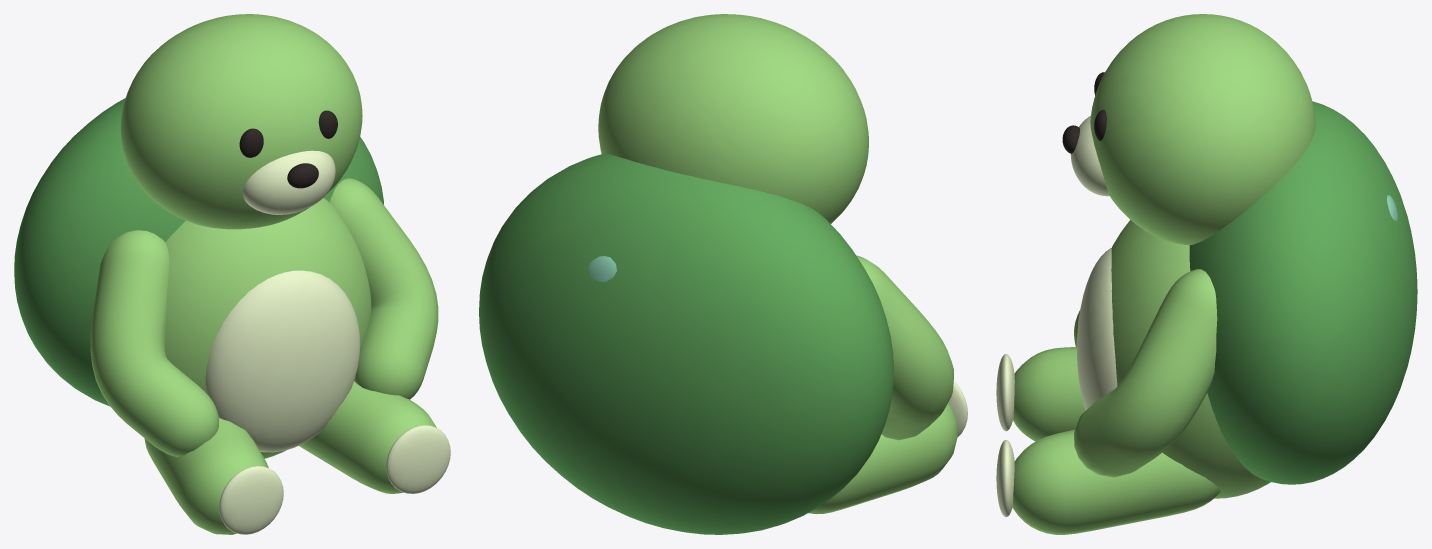
Rendered from deco_tortuga.glb.
3 renders of one model, left to right at view 1: azimuth 30°, elevation 25°; view 2: azimuth 150°, elevation 25°; view 3: azimuth 270°, elevation 25°, orthographic. The views are drawn at different scales.
Visible parts, largest first — view 1: cabeza tortuga.001, caparazón.001, barriga tortuga.001, panza tortuga.001, brazo.024, brazo.025, pierna.025, pierna.024, hocico.012, planta pata.025, planta pata.024, nariz.012 (+1 smaller); view 2: caparazón.001, cabeza tortuga.001, brazo.024, pierna.024, planta pata.024, placa 1.001; view 3: caparazón.001, cabeza tortuga.001, brazo.025, pierna.025, panza tortuga.001, pierna.024, barriga tortuga.001, hocico.012, planta pata.024, planta pata.025.
Boxes of the visible parts, left/top/right/bottom form: cabeza tortuga.001: left=120, top=14, right=362, bottom=229; caparazón.001: left=14, top=98, right=383, bottom=406; barriga tortuga.001: left=205, top=270, right=360, bottom=452; panza tortuga.001: left=164, top=198, right=371, bottom=458; brazo.024: left=90, top=230, right=218, bottom=457; brazo.025: left=330, top=178, right=438, bottom=399; pierna.025: left=299, top=381, right=436, bottom=493; pierna.024: left=144, top=418, right=268, bottom=534; hocico.012: left=243, top=150, right=335, bottom=214; planta pata.025: left=386, top=425, right=450, bottom=493; planta pata.024: left=219, top=466, right=283, bottom=534; nariz.012: left=287, top=163, right=318, bottom=188; caparazón.001: left=479, top=153, right=893, bottom=534; cabeza tortuga.001: left=598, top=14, right=868, bottom=223; brazo.024: left=856, top=255, right=953, bottom=440; pierna.024: left=808, top=403, right=957, bottom=514; planta pata.024: left=948, top=381, right=967, bottom=436; placa 1.001: left=588, top=256, right=616, bottom=282; caparazón.001: left=1189, top=101, right=1417, bottom=484; cabeza tortuga.001: left=1090, top=14, right=1315, bottom=245; brazo.025: left=1074, top=269, right=1217, bottom=477; pierna.025: left=1012, top=429, right=1220, bottom=534; panza tortuga.001: left=1111, top=220, right=1270, bottom=498; pierna.024: left=1013, top=347, right=1085, bottom=441; barriga tortuga.001: left=1077, top=248, right=1117, bottom=410; hocico.012: left=1070, top=115, right=1109, bottom=196; planta pata.024: left=996, top=354, right=1014, bottom=431; planta pata.025: left=996, top=440, right=1014, bottom=516.
Bounding box in the file's own units: 0.3364 × 0.399 × 0.3316.
